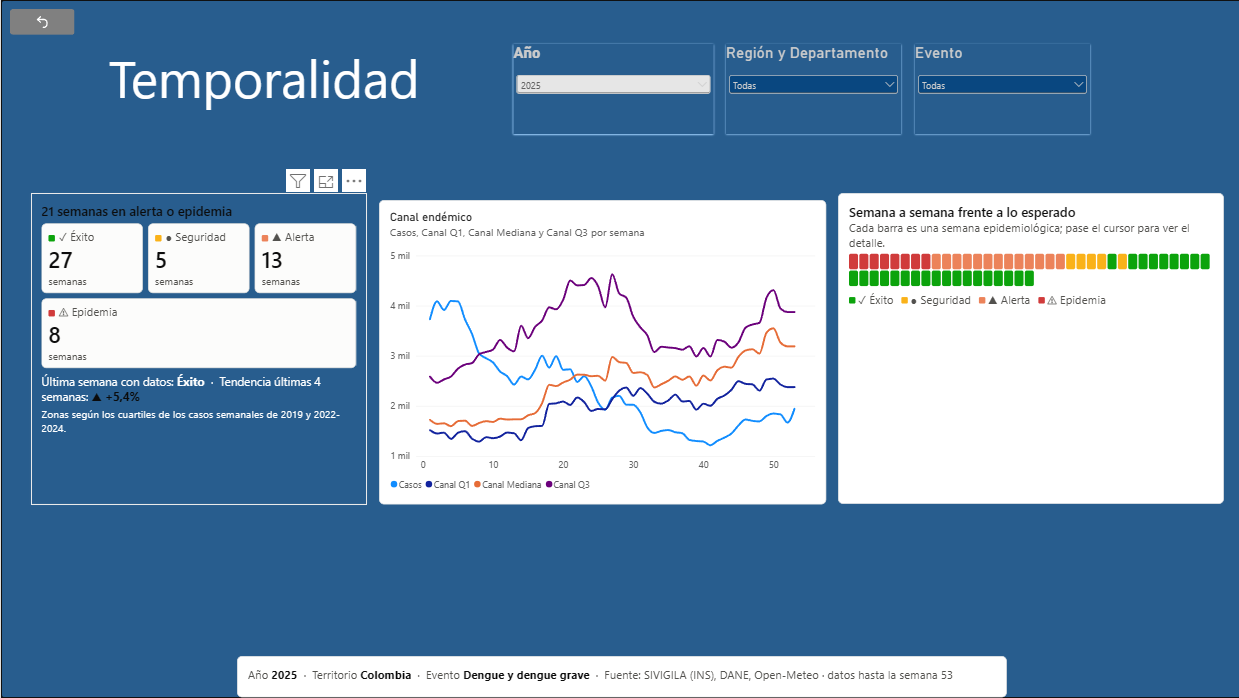

What the dashboard file says about the page in this screenshot:
{"tool":"powerbi","page":{"name":"Página 3","canvas":[1920,1080],"ordinal":2},"visuals":[{"type":"htmlContent443BE3AD55E043BF878BED274D3A6855","fields":{"content":["_Medidas.HTML Contexto"]},"box":[364.7,1015.4,1190.5,64.2],"z":0},{"type":"htmlContent443BE3AD55E043BF878BED274D3A6855","fields":{"content":["_Medidas.HTML P3 Estado Canal"]},"box":[46.7,299.1,519.4,481.5],"z":1},{"type":"htmlContent443BE3AD55E043BF878BED274D3A6855","fields":{"content":["_Medidas.HTML P3 Semaforo Semanal"]},"box":[1295.6,299.1,596.7,481.5],"z":2},{"type":"textbox","box":[154.7,65.7,504.8,116.7],"z":3},{"type":"slicer","title":"Año","fields":{"Values":["dim_tiempo.anio"]},"box":[792.2,68.6,309.3,138.6],"z":4},{"type":"slicer","title":"Región y Departamento","fields":{"Values":["dim_departamento.region","dim_departamento.departamento"]},"box":[1121.9,68.6,271.4,138.6],"z":5},{"type":"slicer","title":"Evento","fields":{"Values":["dim_evento.evento"]},"box":[1413.7,68.6,271.4,138.6],"z":6},{"type":"actionButton","box":[14.6,14.6,100,40],"z":7},{"type":"lineChart","title":"Canal endémico","fields":{"Category":["dim_tiempo.semana"],"Y":["_Medidas.Casos","_Medidas.Canal Q1","_Medidas.Canal Mediana","_Medidas.Canal Q3"]},"box":[585,309.3,691.6,471.2],"z":8},{"type":"slicer","title":"Año","fields":{"Values":["dim_tiempo.anio"]},"box":[793.7,68.1,309.3,138.6],"z":9}]}

Visuals, with their boxes in screenshot pixels (x1, y1, x2, y2), scaled from the page's 1920x1080 canvas onto the 1239x698 screenshot:
htmlContent443BE3AD55E043BF878BED274D3A6855 - _Medidas.HTML Contexto: rect(235, 656, 1004, 697)
htmlContent443BE3AD55E043BF878BED274D3A6855 - _Medidas.HTML P3 Estado Canal: rect(30, 193, 365, 504)
htmlContent443BE3AD55E043BF878BED274D3A6855 - _Medidas.HTML P3 Semaforo Semanal: rect(836, 193, 1221, 504)
textbox: rect(100, 42, 426, 118)
"Año" slicer: rect(511, 44, 711, 134)
"Región y Departamento" slicer: rect(724, 44, 899, 134)
"Evento" slicer: rect(912, 44, 1087, 134)
actionButton: rect(9, 9, 74, 35)
"Canal endémico" lineChart: rect(378, 200, 824, 504)
"Año" slicer: rect(512, 44, 712, 134)
